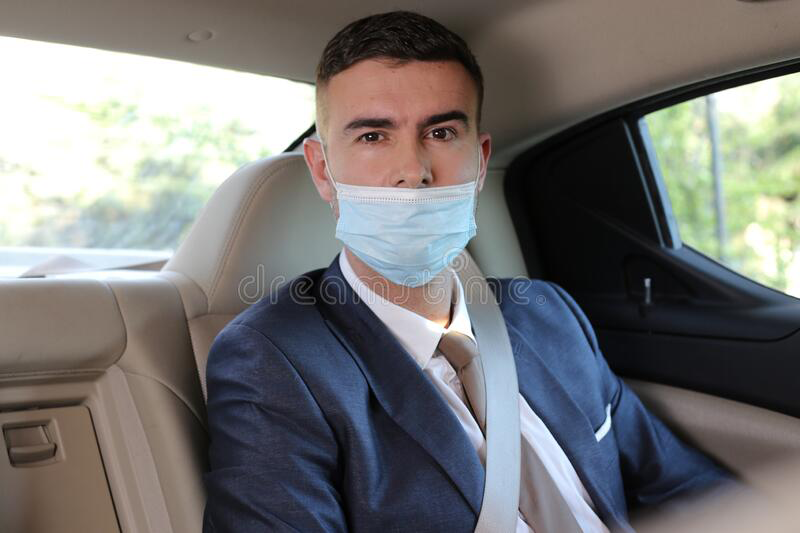mask_weared_incorrect: (322, 97, 486, 288)
